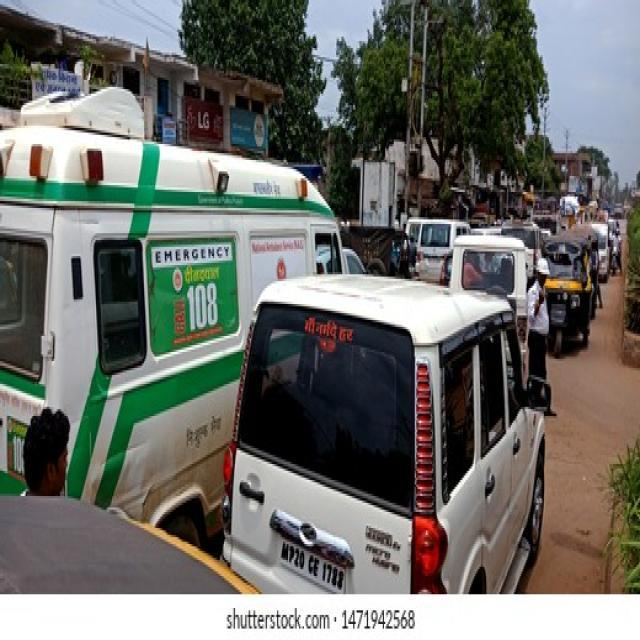ambulance: (5, 94, 346, 545), (0, 114, 2, 124)
